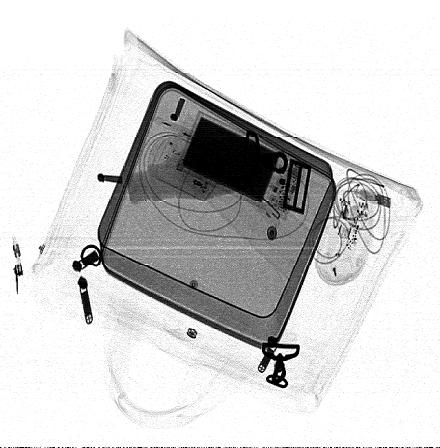Powerbank: (175, 111, 283, 210)
